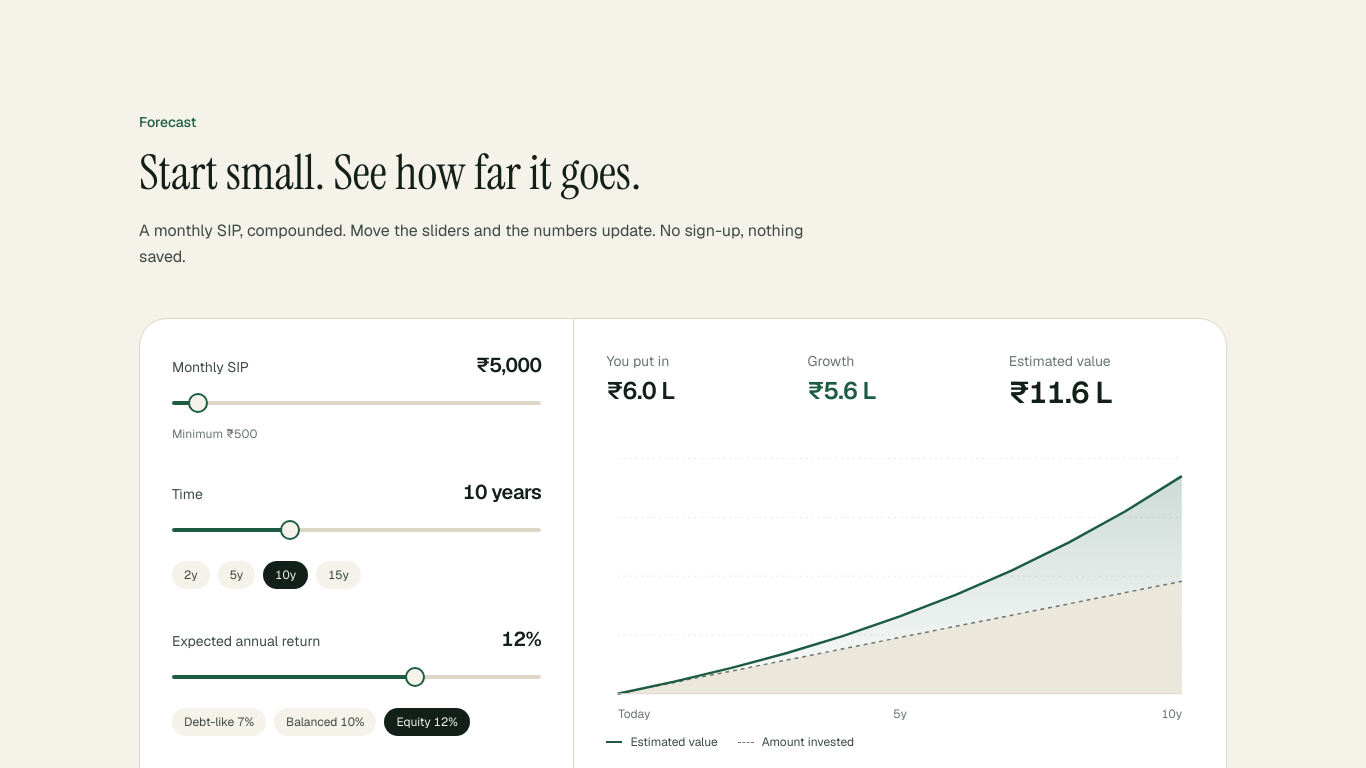
Test: Forecast › uses singular 'year' for a one-year horizon
The image size is (1366, 768).
Set the slider labelled "Time" to "1". click: (180, 530)
box: x1=172 y1=518 x2=541 y2=542
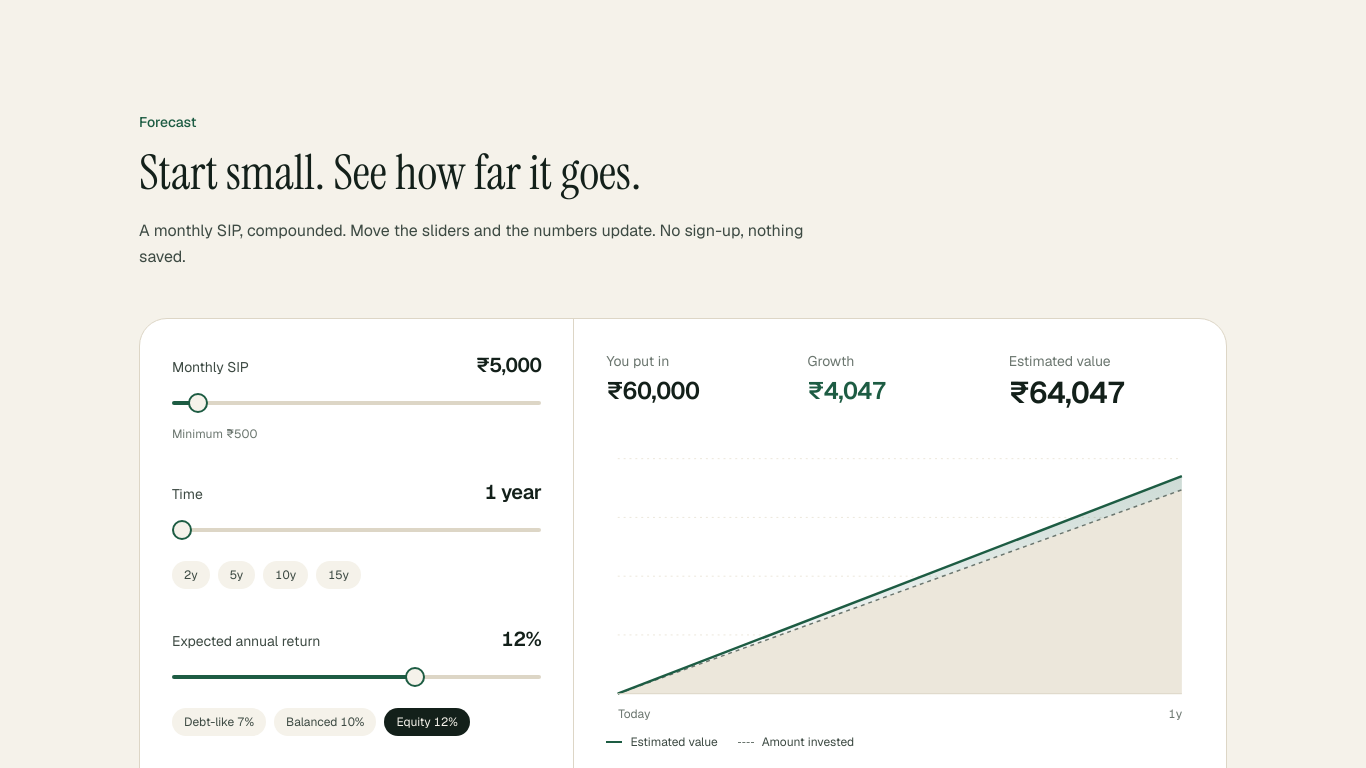
expect the text "1 year" is shown: met, box x1=485 y1=478 x2=541 y2=506
